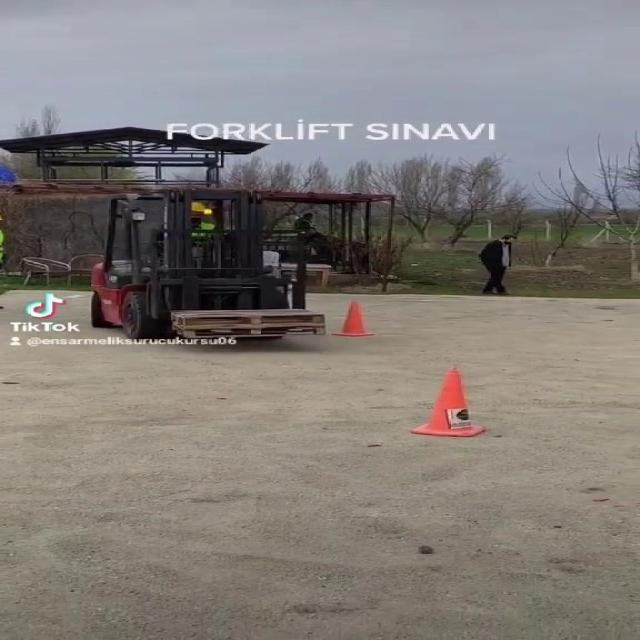forklift: (89, 190, 321, 336)
pallets: (154, 304, 334, 349)
person: (156, 192, 244, 262), (476, 233, 532, 308)
